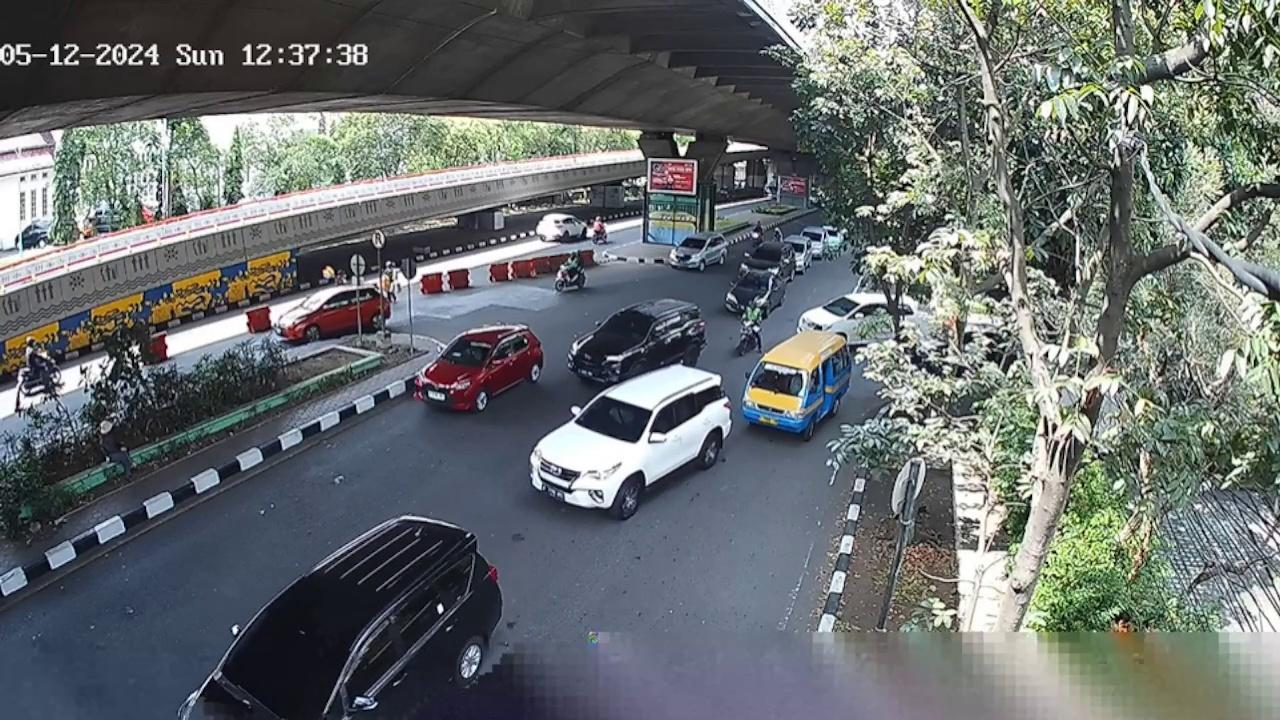pakai: (607, 406, 632, 431), (463, 346, 487, 361)
windshield: (574, 392, 650, 442), (596, 310, 653, 341), (442, 338, 491, 368)
